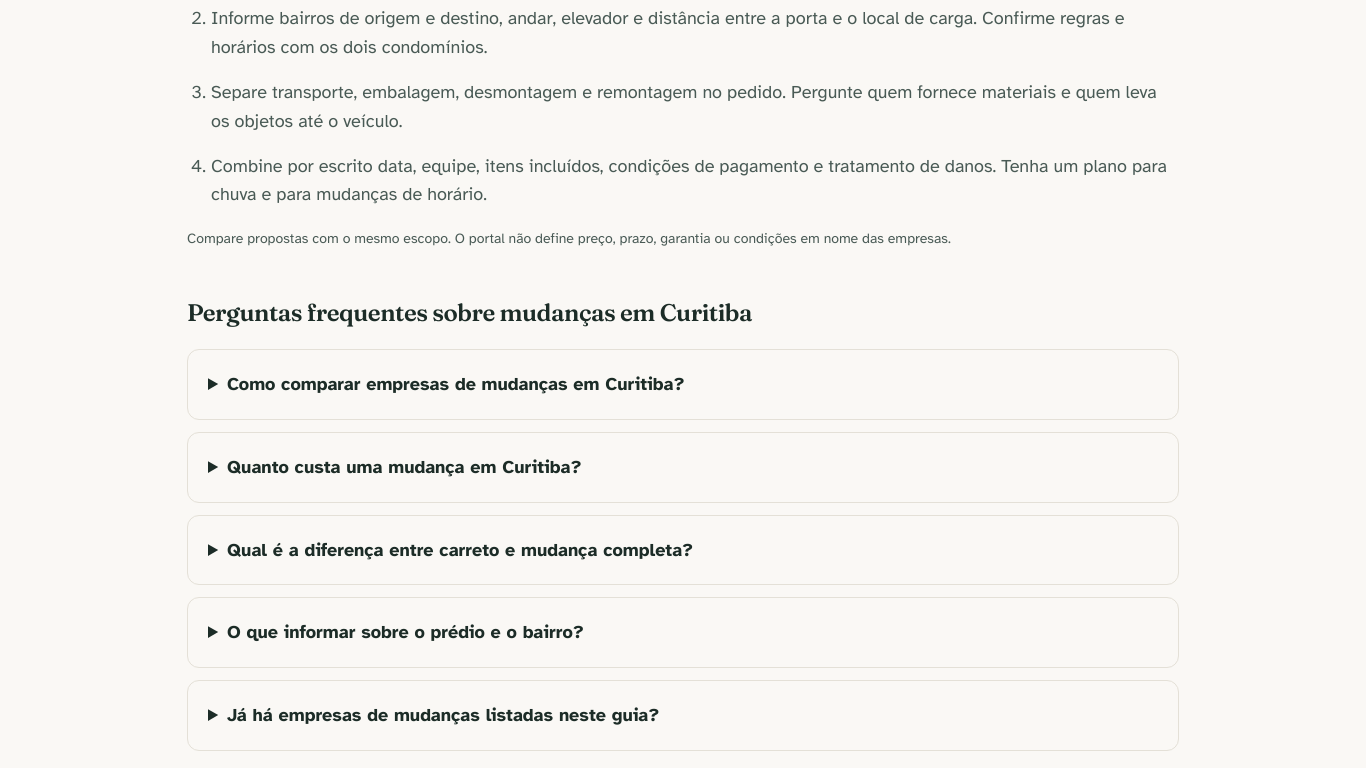
Scenario: guias editoriais de Curitiba › renderiza título, metadados, âncoras, FAQ e cadastro de Mudanças
The image size is (1366, 768).
(page scrolled)
What coordinates should you click on to do the following:
click the heading "Como comparar empresas de mudanças em Curitiba?"
I would click on:
 (456, 384)
Its box is top-left (227, 373), bottom-right (684, 395).
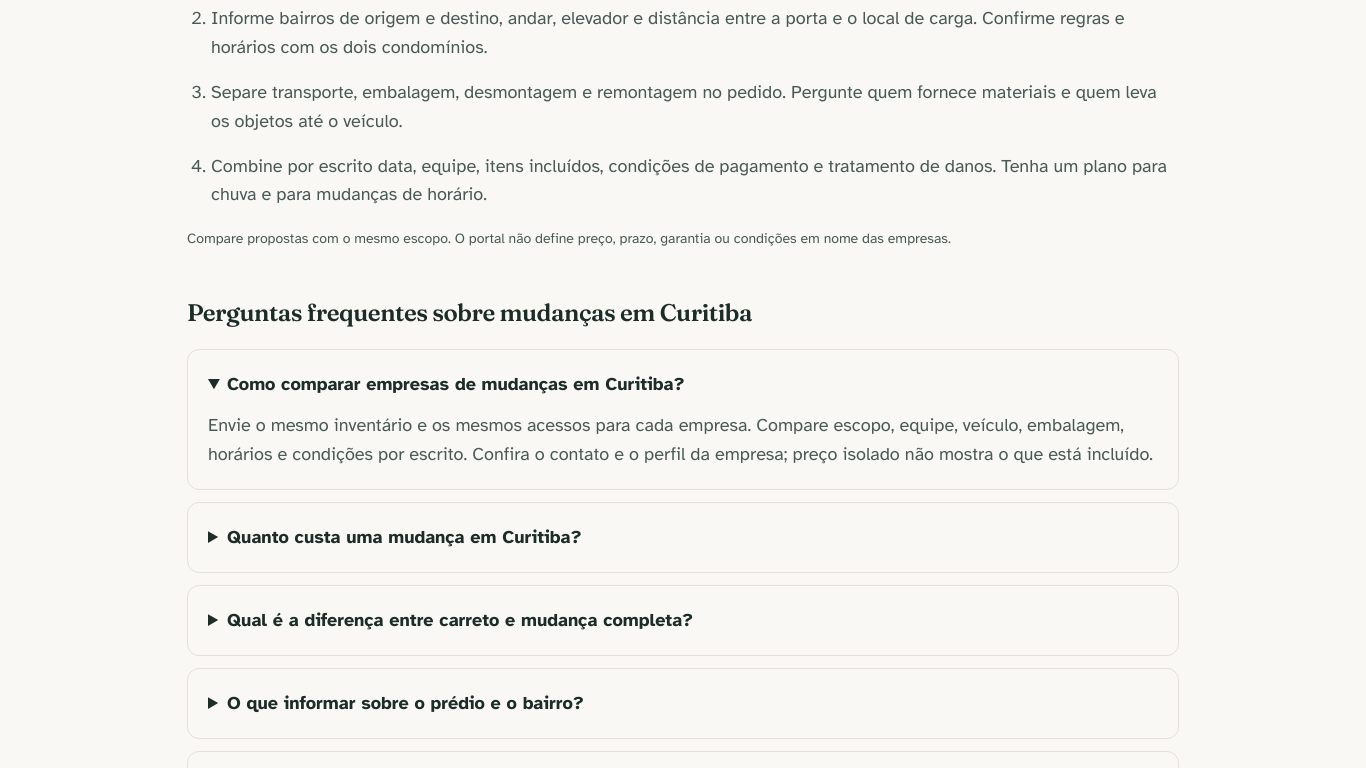
What coordinates should you click on to do the following:
click the heading "Como comparar empresas de mudanças em Curitiba?"
I would click on:
 (456, 384)
Its box is top-left (227, 373), bottom-right (684, 395).
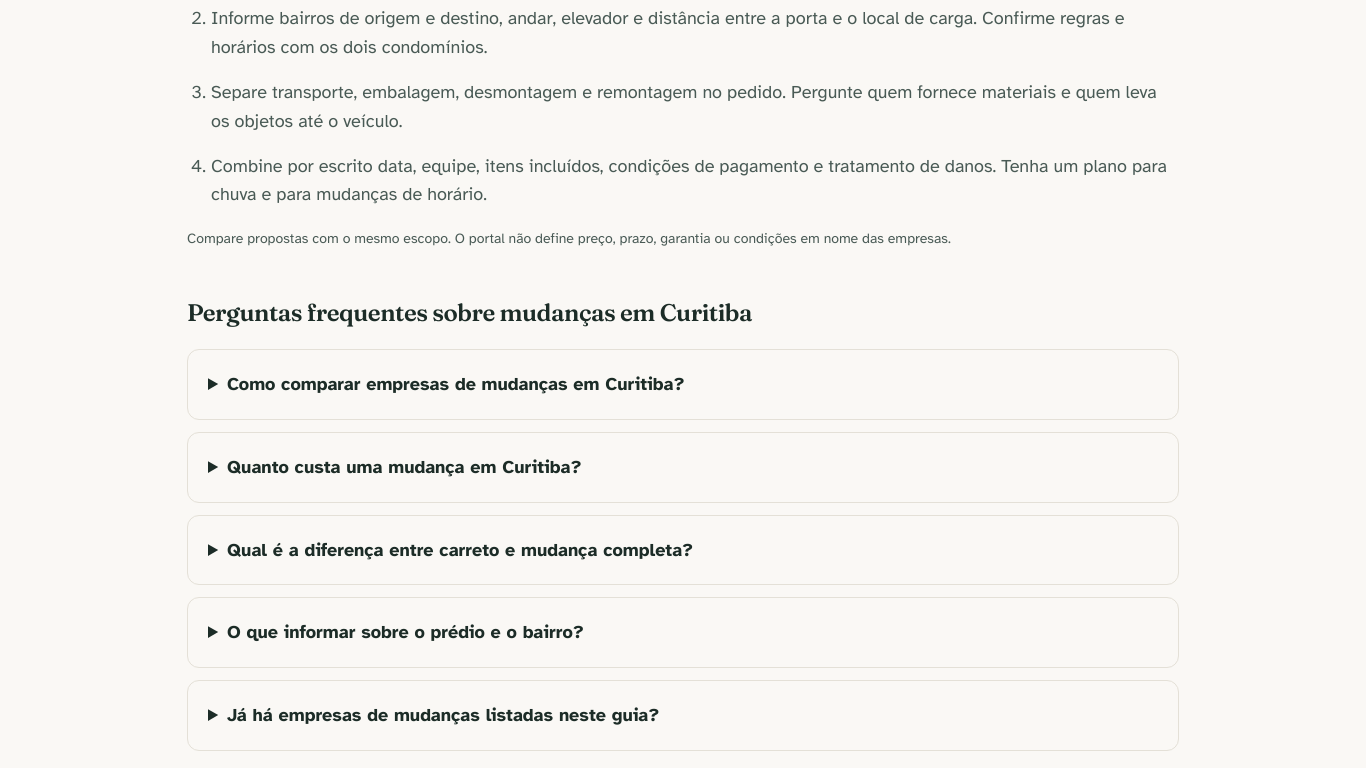
Expected: the element showing "Como comparar empresas de mudanças em Curitiba?" does not have attribute open, top-left (187, 349), bottom-right (1179, 420)
